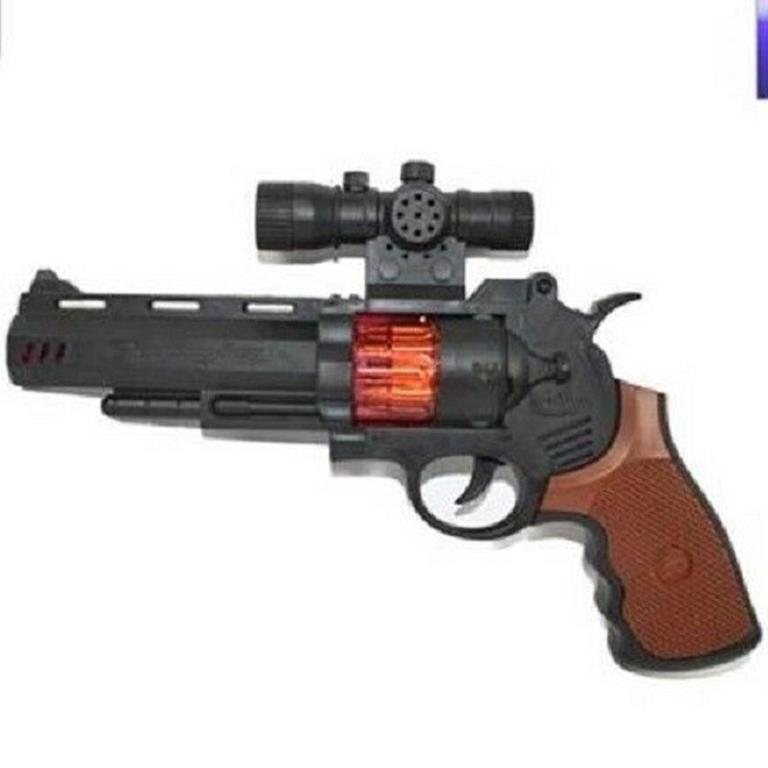Arma Falsa: (6, 160, 762, 669)
